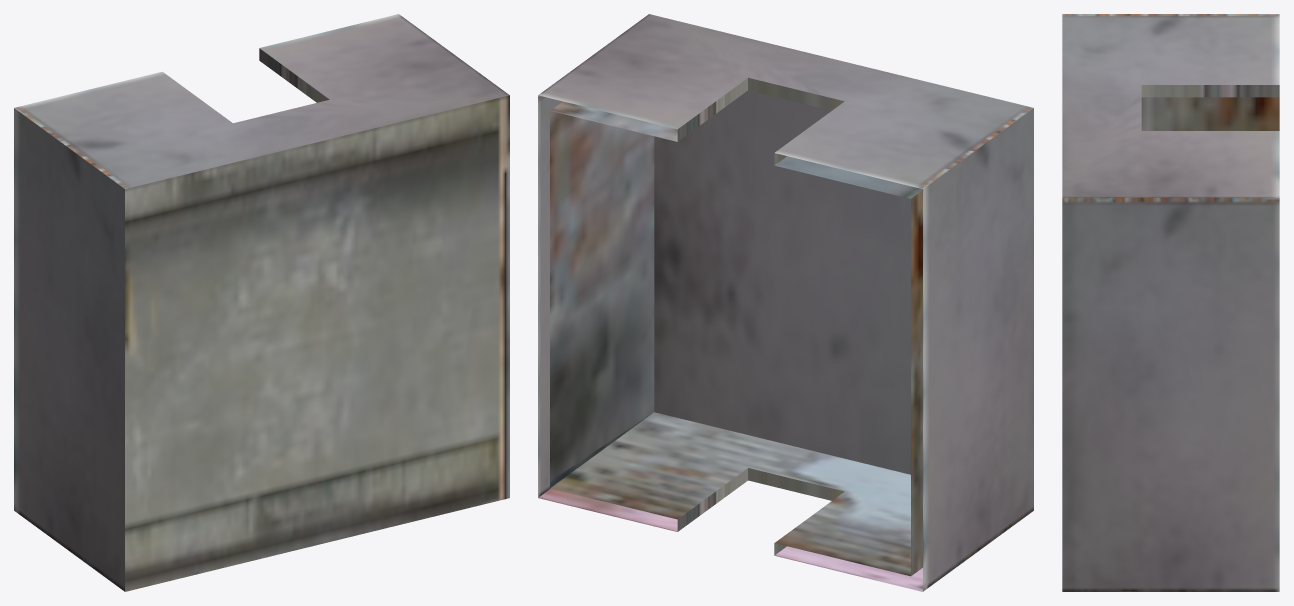
File: 4x4NS_pinkandwhite_wtf.obj
3 renders of one model, left to right at view 1: azimuth 30°, elevation 25°; view 2: azimuth 150°, elevation 25°; view 3: azimuth 270°, elevation 25°, orthographic. The views are drawn at different scales.
Parts seen in each view (by area): view 1: group3; view 2: group3; view 3: group3.
Boxes of the visible parts, x1,y1,x2,y2 form: group3: (14, 14, 509, 591); group3: (538, 14, 1033, 591); group3: (1062, 14, 1279, 591).
Bounding box in the file's own units: 660 × 660 × 330.
